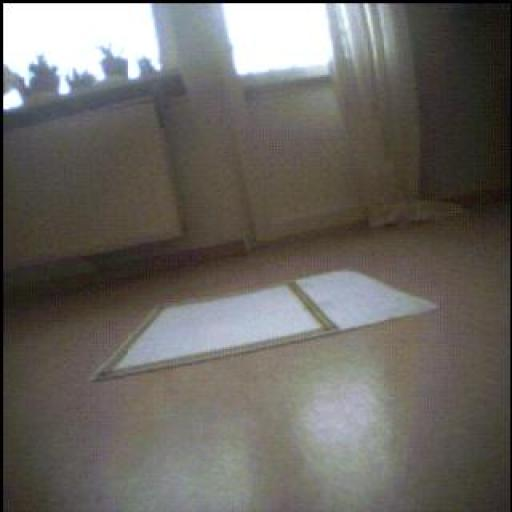Pad: (94, 272, 436, 381)
